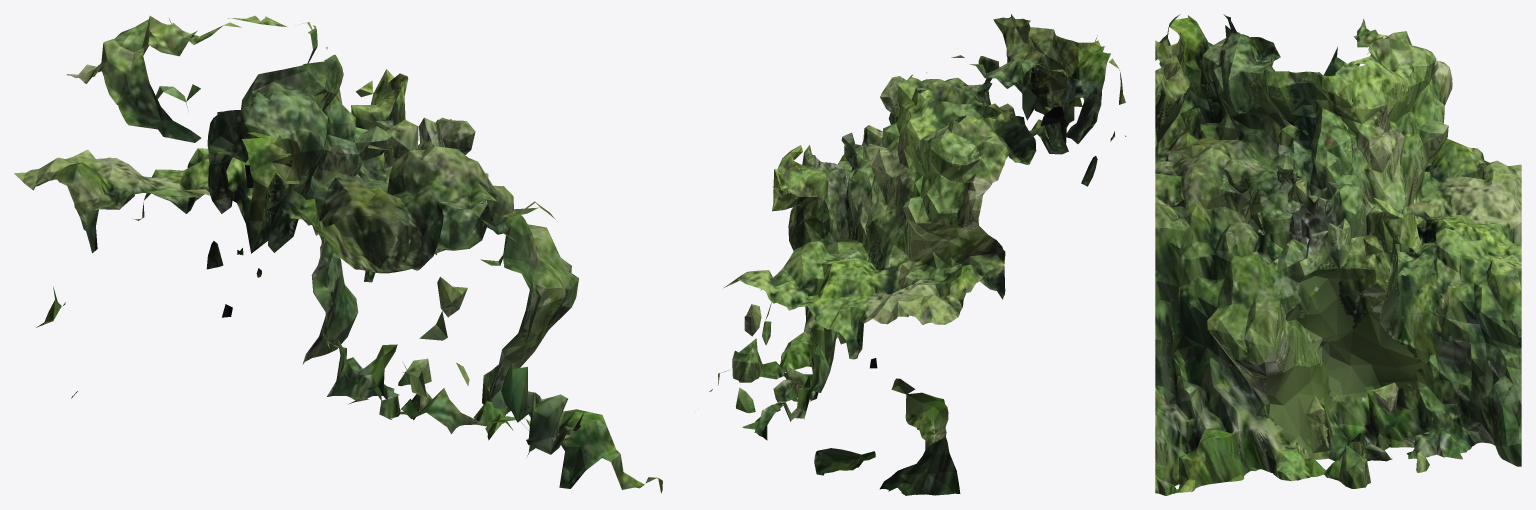
3 renders of one model, left to right at view 1: azimuth 30°, elevation 25°; view 2: azimuth 150°, elevation 25°; view 3: azimuth 270°, elevation 25°, orthographic. The views are drawn at different scales.
Size of the model in its own units: 25.35 by 26.11 by 26.11.
Materials: 6 (6 with a texture image).
